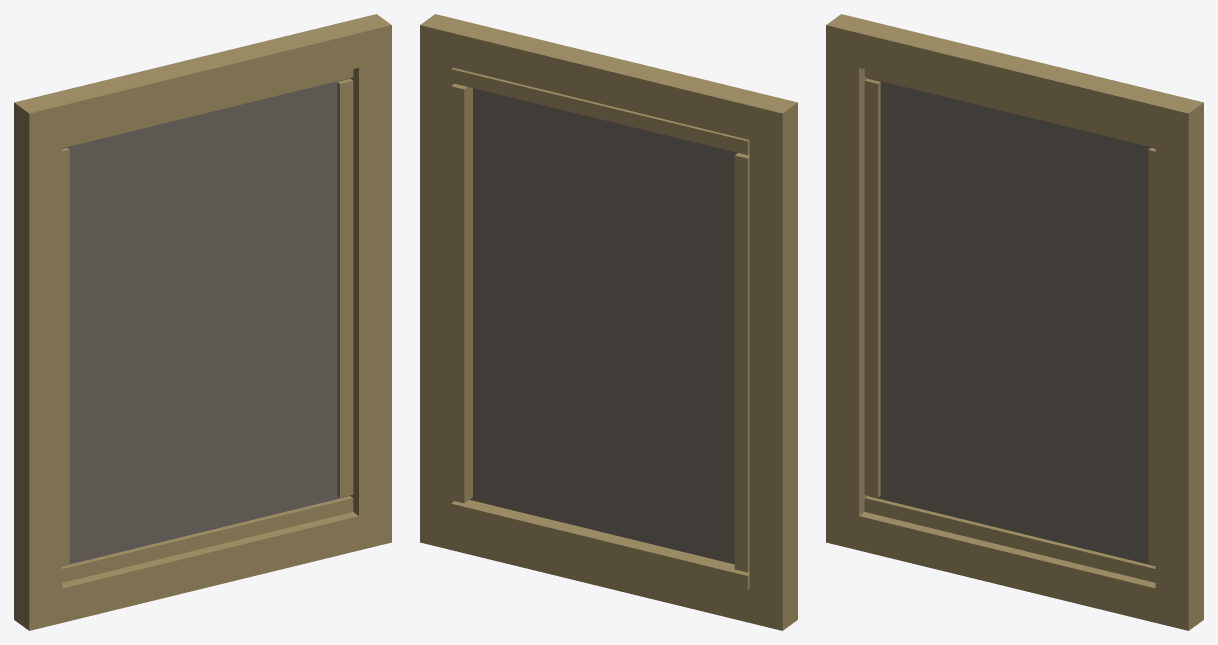
File: PortraitFrame.fbx
The picture shows the model from 3 angles, left to right: view 1: azimuth 30°, elevation 25°; view 2: azimuth 150°, elevation 25°; view 3: azimuth 330°, elevation 25°; orthographic projection.
Parts seen in each view (by area): view 1: Canvas, PortraitFrame; view 2: Canvas, PortraitFrame; view 3: Canvas, PortraitFrame.
Boxes of the visible parts, x1,y1,x2,y2 form: Canvas: (62, 78, 350, 566); PortraitFrame: (14, 14, 391, 630); Canvas: (469, 88, 737, 564); PortraitFrame: (420, 14, 797, 630); Canvas: (867, 78, 1155, 566); PortraitFrame: (826, 14, 1203, 630).
Bounding box in the file's own units: 1.1 × 1.5 × 0.09.
